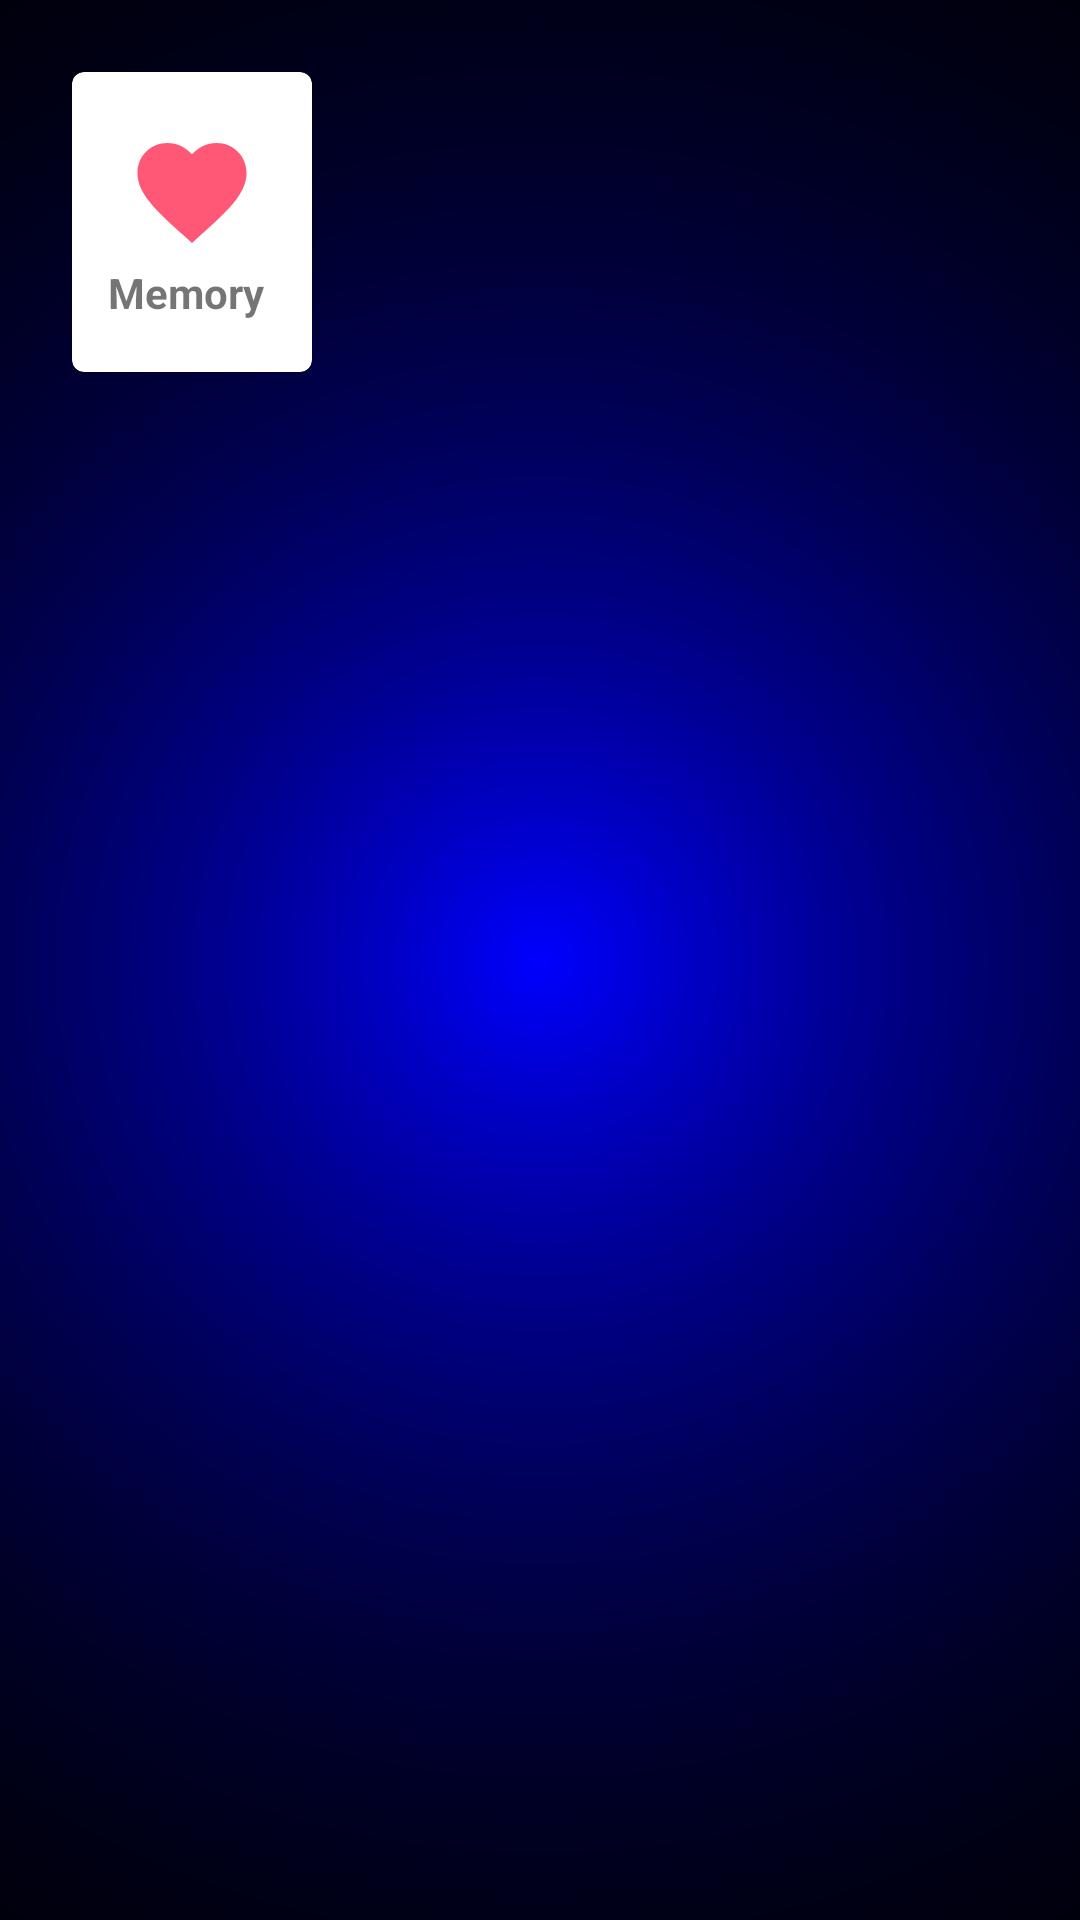

Where to tap for icons on this 1080px×1920px app screen, as (x,y):
lives: (192,193)
